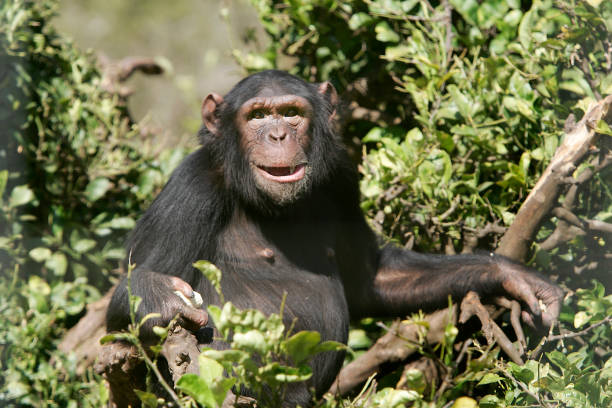chimpanzee: (157, 58, 363, 242)
